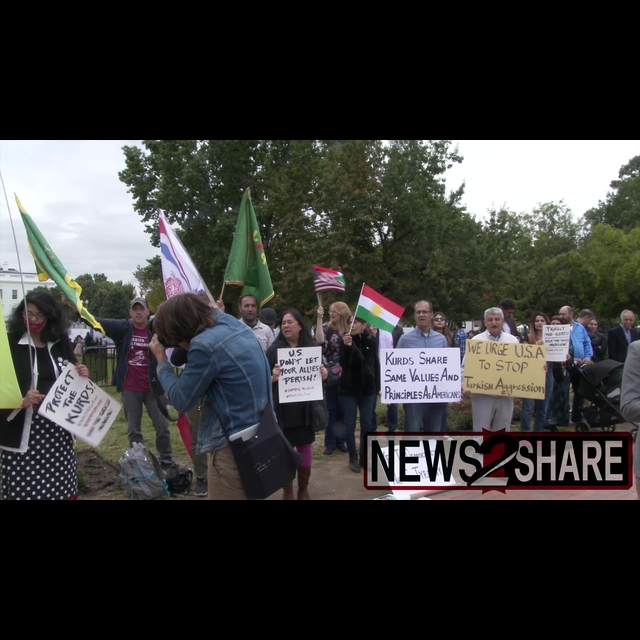IBKY: (364, 296, 394, 324)
